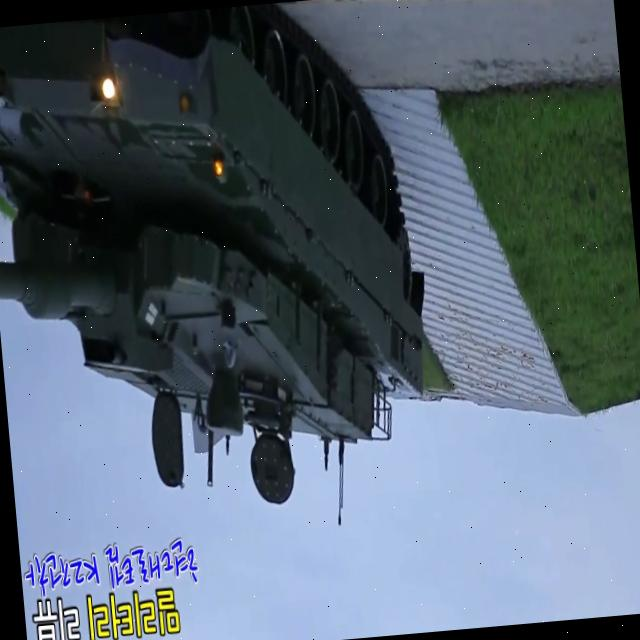korea tank: (0, 0, 448, 555)
